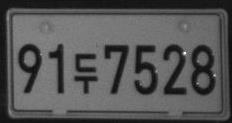1: (46, 43, 72, 94)
2: (162, 43, 187, 95)
5: (133, 44, 159, 95)
7: (103, 43, 129, 93)
8: (189, 43, 216, 96)
9: (17, 42, 42, 94)
두: (73, 52, 98, 94)
